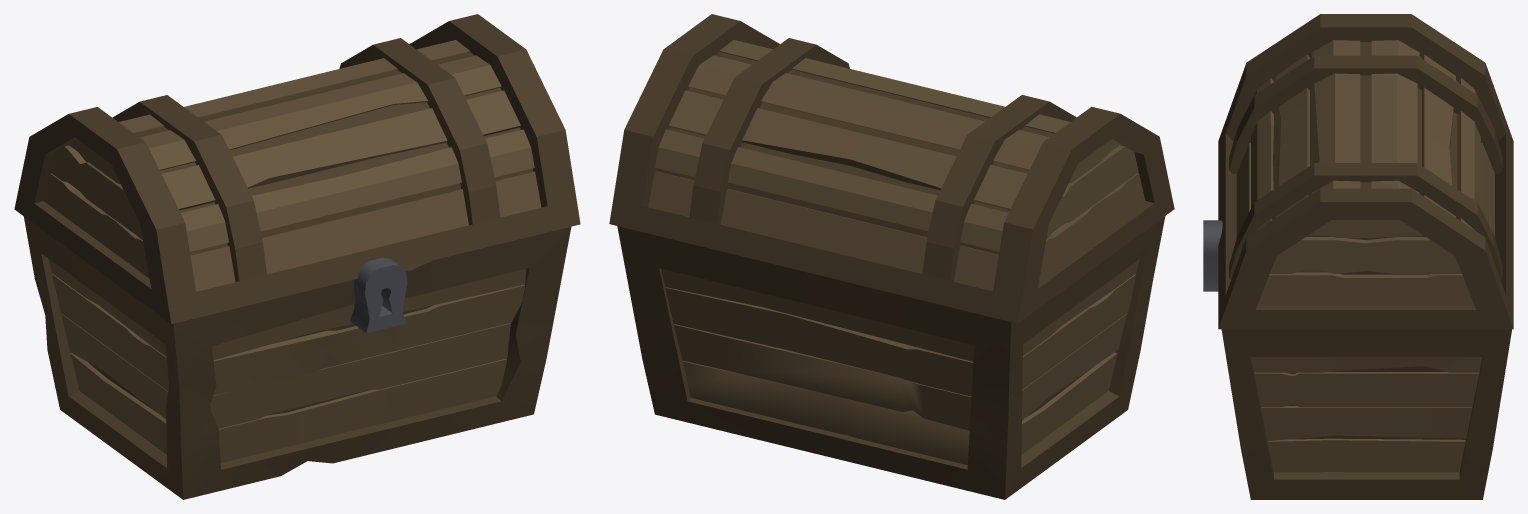
File: Chest_Gold.glb
3 views of the same model, side by side, from view 1: azimuth 30°, elevation 25°; view 2: azimuth 150°, elevation 25°; view 3: azimuth 270°, elevation 25° (orthographic). The views are drawn at different scales.
Visible parts, largest first — view 1: Chest_Gold_Top_Cylinder.041, Chest_Gold_Base_Cube.010; view 2: Chest_Gold_Top_Cylinder.041, Chest_Gold_Base_Cube.010; view 3: Chest_Gold_Top_Cylinder.041, Chest_Gold_Base_Cube.010.
Boxes of the visible parts, x1,y1,x2,y2 form: Chest_Gold_Top_Cylinder.041: (14, 14, 580, 324); Chest_Gold_Base_Cube.010: (23, 216, 571, 499); Chest_Gold_Top_Cylinder.041: (609, 14, 1174, 323); Chest_Gold_Base_Cube.010: (617, 216, 1165, 499); Chest_Gold_Top_Cylinder.041: (1218, 14, 1513, 329); Chest_Gold_Base_Cube.010: (1203, 220, 1511, 499).
Bounding box in the file's own units: 1.18 × 0.9107 × 0.8222.
